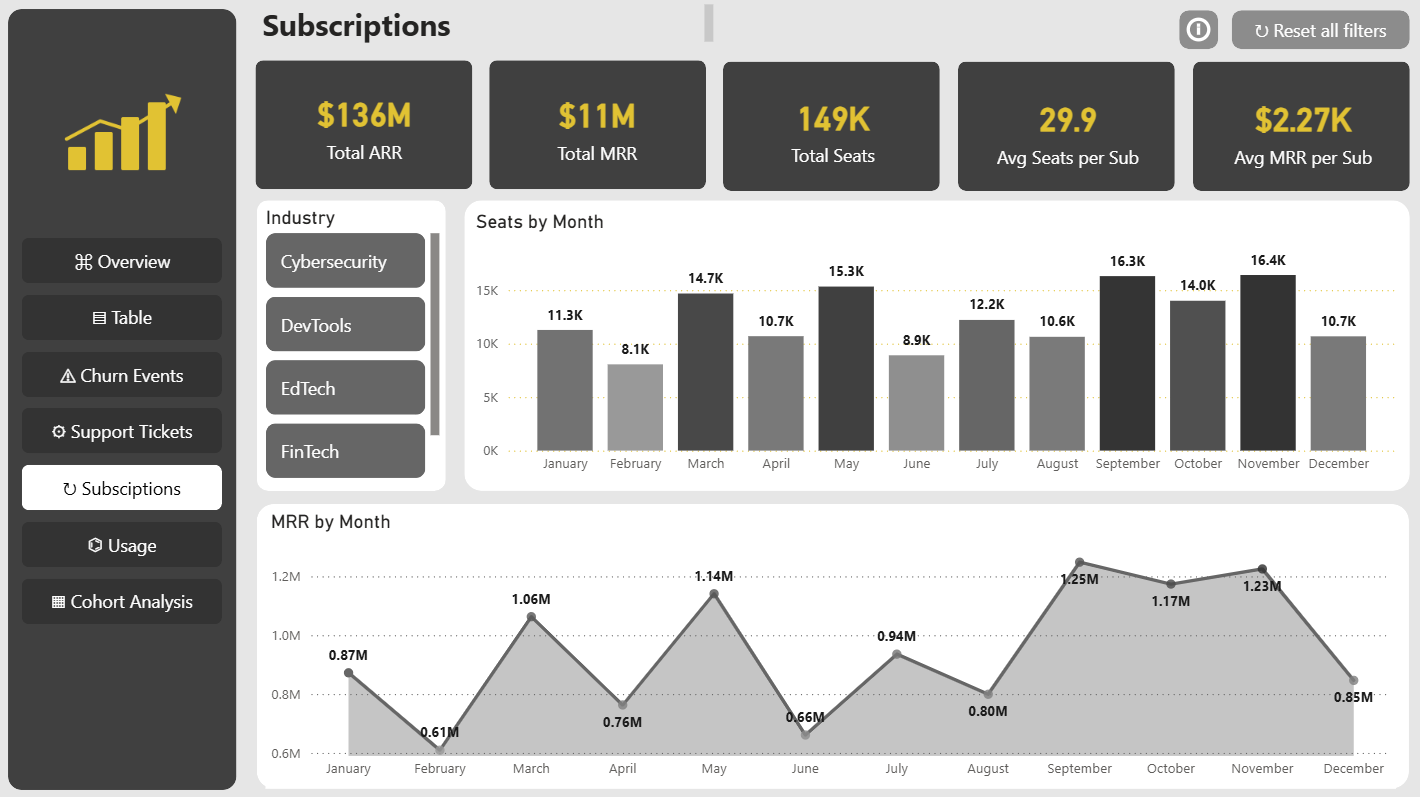

Layout of this report page (visuals, bound fields, positions):
{"tool":"powerbi","page":{"name":"↻ Subsciptions","canvas":[1280,720],"ordinal":4},"visuals":[{"type":"image","box":[0,0,1278.8,720],"z":0},{"type":"shape","box":[854.3,47.1,212.9,134.3],"z":1000},{"type":"shape","box":[642.9,47.1,212.9,134.3],"z":2000},{"type":"shape","box":[232.5,181.2,170,261.2],"z":3000},{"type":"shape","box":[1065.7,47.1,212.9,134.3],"z":4000},{"type":"shape","box":[232.9,454.3,1035.7,255.7],"z":5000},{"type":"shape","box":[222.9,45.7,213,134],"z":6000},{"type":"shape","box":[432.9,45.7,212.9,134],"z":7000},{"type":"card","fields":{"Values":["Sum(public subscriptions.mrr_amount)"]},"box":[444.3,51.4,190,124.3],"z":8000},{"type":"card","fields":{"Values":["Sum(public subscriptions.arr_amount)"]},"box":[220,54.3,218.6,118.6],"z":9000},{"type":"card","fields":{"Values":["Sum(public subscriptions.seats)"]},"box":[648.8,55,205,122.5],"z":10000},{"type":"textbox","box":[232.9,0,415.7,44.3],"z":11000},{"type":"actionButton","box":[1062,10,35,35],"z":12000},{"type":"actionButton","title":"d","box":[1108.8,10,160,35],"z":13000},{"type":"card","fields":{"Values":["Avg(public subscriptions.mrr_amount)"]},"box":[1070,58.8,207.5,118.8],"z":14000},{"type":"card","fields":{"Values":["Avg(public subscriptions.seats)"]},"box":[858.6,57.1,207.1,120],"z":15000},{"type":"shape","title":"Special image","box":[1000,495,12.5,12.5],"z":16000},{"type":"areaChart","title":"MRR by Month","fields":{"Category":["date.Month Name"],"Y":["Sum(public subscriptions.mrr_amount)"]},"box":[240,460,1016.2,250],"z":17000},{"type":"shape","box":[418.8,181.2,850,261.2],"z":18000},{"type":"shape","box":[0,0,223.3,720],"z":19000},{"type":"pageNavigator","box":[21.2,215,180,350],"z":20000},{"type":"image","box":[0,74,238,110],"z":21000},{"type":"columnChart","title":"Seats by Month","fields":{"Y":["Sum(public subscriptions.seats)"],"Category":["date.Month Name"]},"box":[425,190,836.2,246.2],"z":22000},{"type":"advancedSlicerVisual","fields":{"Values":["public accounts.industry"]},"box":[236.2,186.2,166.2,250],"z":23000}]}

Visuals, with their boxes in screenshot pixels (x1, y1, x2, y2), scaled from the page's 1280x720 canvas onto the 1420x797 screenshot:
image: {"left": 0, "top": 0, "right": 1419, "bottom": 796}
shape: {"left": 948, "top": 52, "right": 1184, "bottom": 201}
shape: {"left": 713, "top": 52, "right": 949, "bottom": 201}
shape: {"left": 258, "top": 201, "right": 447, "bottom": 490}
shape: {"left": 1182, "top": 52, "right": 1418, "bottom": 201}
shape: {"left": 258, "top": 503, "right": 1407, "bottom": 786}
shape: {"left": 247, "top": 51, "right": 484, "bottom": 199}
shape: {"left": 480, "top": 51, "right": 716, "bottom": 199}
card - Sum(public subscriptions.mrr_amount): {"left": 493, "top": 57, "right": 704, "bottom": 194}
card - Sum(public subscriptions.arr_amount): {"left": 244, "top": 60, "right": 487, "bottom": 191}
card - Sum(public subscriptions.seats): {"left": 720, "top": 61, "right": 947, "bottom": 196}
textbox: {"left": 258, "top": 0, "right": 720, "bottom": 49}
actionButton: {"left": 1178, "top": 11, "right": 1217, "bottom": 50}
"d" actionButton: {"left": 1230, "top": 11, "right": 1408, "bottom": 50}
card - Avg(public subscriptions.mrr_amount): {"left": 1187, "top": 65, "right": 1417, "bottom": 197}
card - Avg(public subscriptions.seats): {"left": 953, "top": 63, "right": 1182, "bottom": 196}
"Special image" shape: {"left": 1109, "top": 548, "right": 1123, "bottom": 562}
"MRR by Month" areaChart: {"left": 266, "top": 509, "right": 1394, "bottom": 786}
shape: {"left": 465, "top": 201, "right": 1408, "bottom": 490}
shape: {"left": 0, "top": 0, "right": 248, "bottom": 796}
pageNavigator: {"left": 24, "top": 238, "right": 223, "bottom": 625}
image: {"left": 0, "top": 82, "right": 264, "bottom": 204}
"Seats by Month" columnChart: {"left": 471, "top": 210, "right": 1399, "bottom": 483}
advancedSlicerVisual - public accounts.industry: {"left": 262, "top": 206, "right": 446, "bottom": 483}
